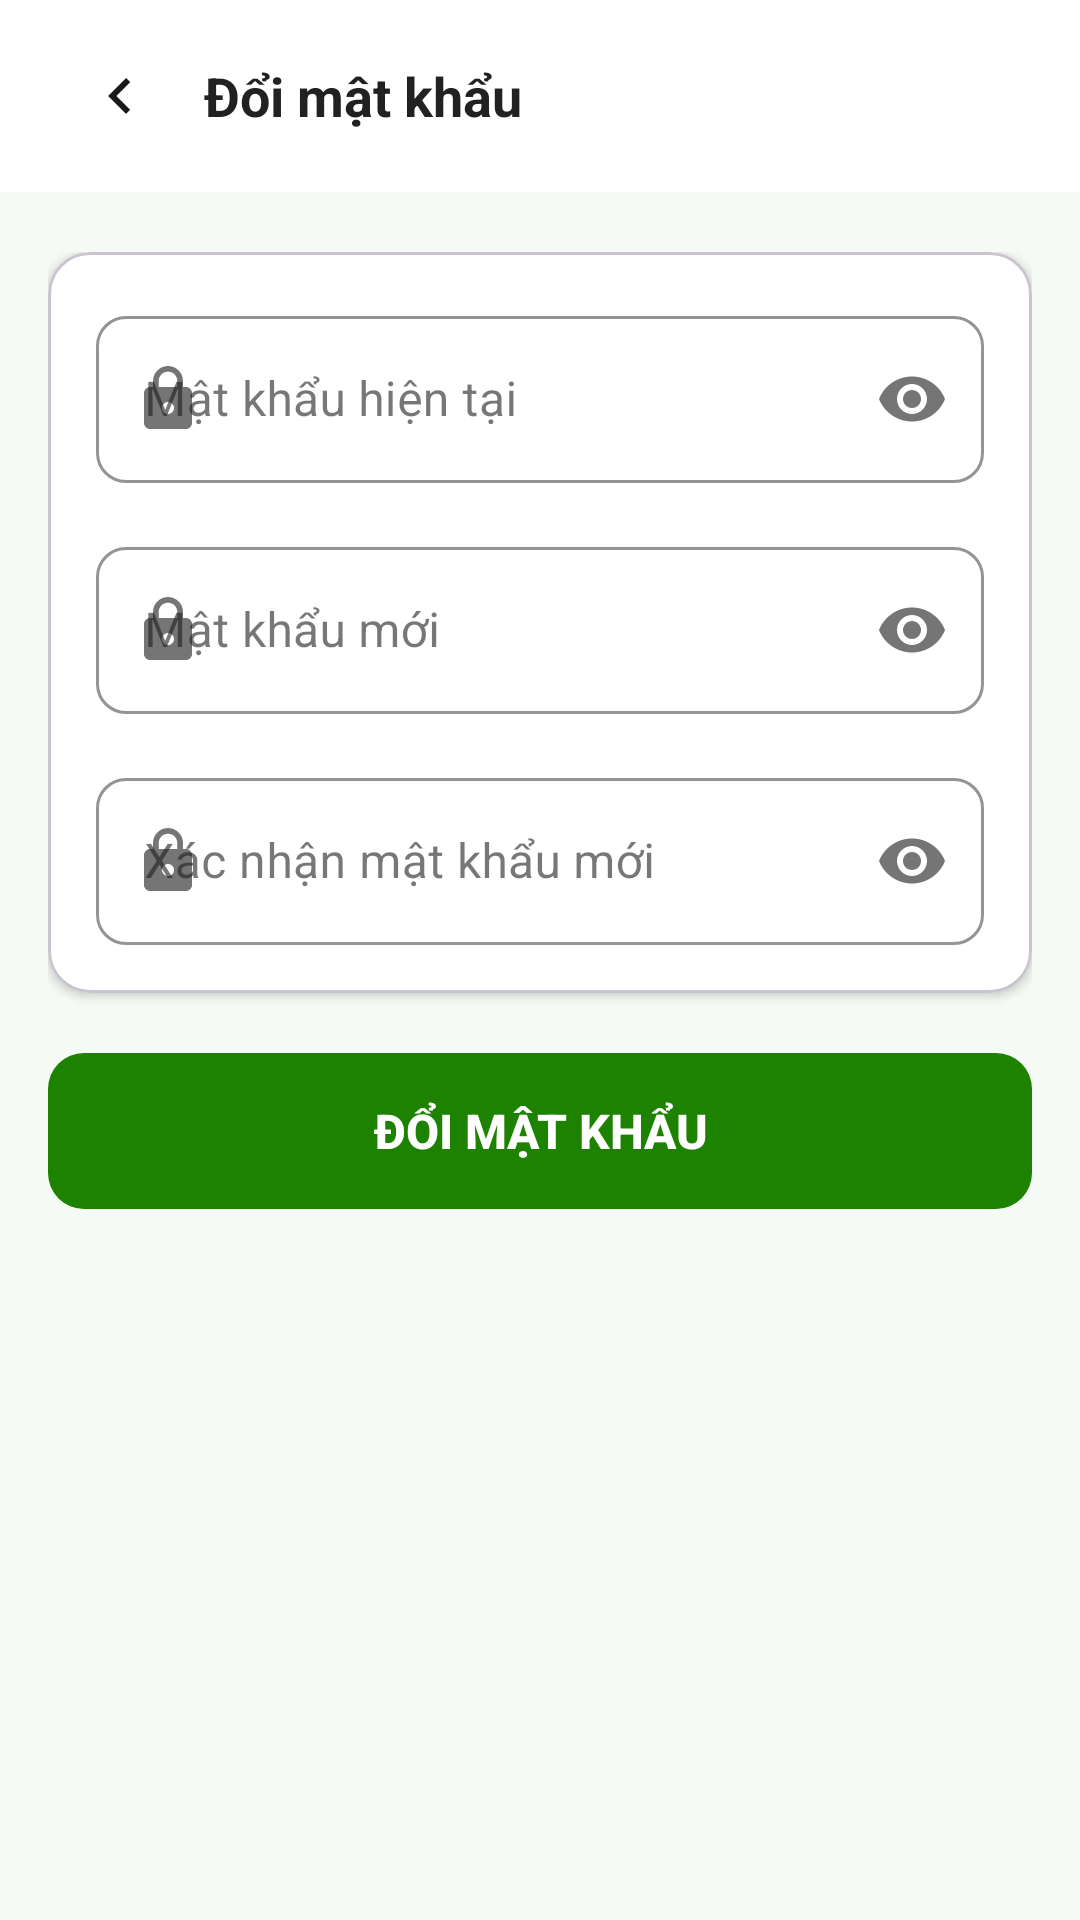

Icon click points for this 1080px x 1920px phone screenshot, format (x=x, y=y):
Quay lại: (x=119, y=96)
